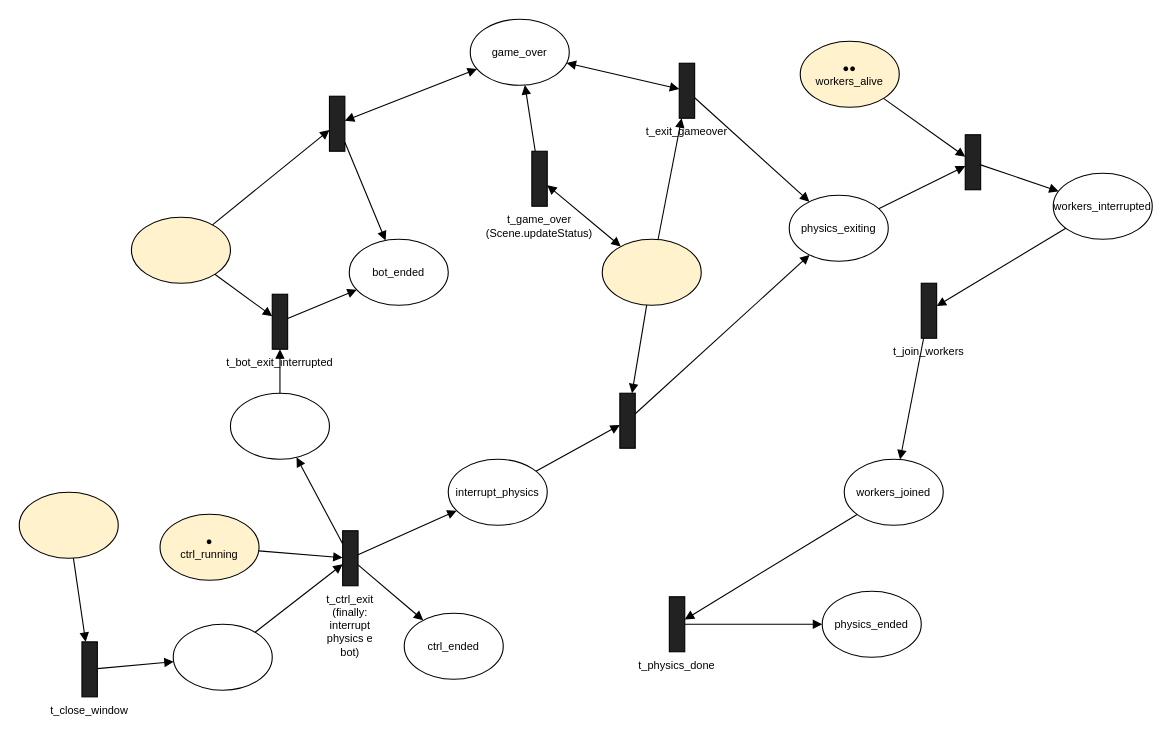
This 1172x737 diagram has some shape labels left out. Here are the shapes that lost their labels. From the top down, the centre of each, then its label:
At point 336,123: "t_bot_exit_gameover".
At point 972,162: "t_interrupt_workers".
At point 180,249: "● bot_running".
At point 651,271: "● physics_running".
At point 279,425: "interrupt_bot".
At point 627,420: "t_exit_interrupted".
At point 68,524: "● window_open".
At point 222,656: "window_closed".
